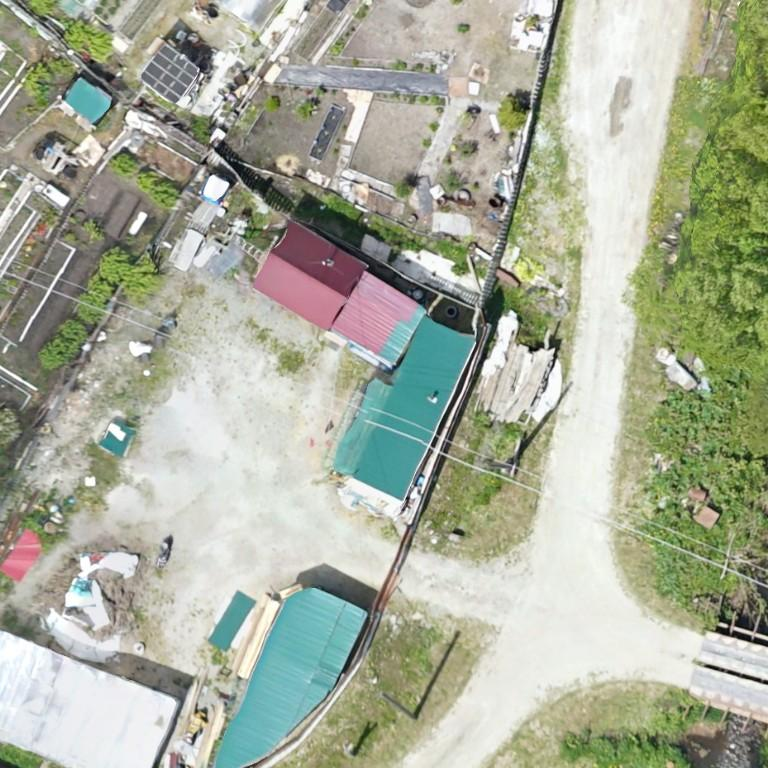hogweed: (651, 371, 767, 549), (651, 541, 719, 604), (640, 524, 724, 565)
